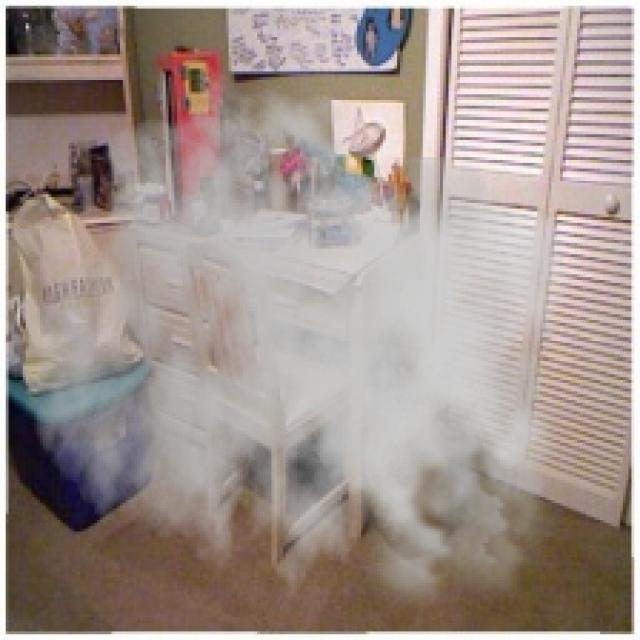Smoke: (26, 71, 588, 634)
